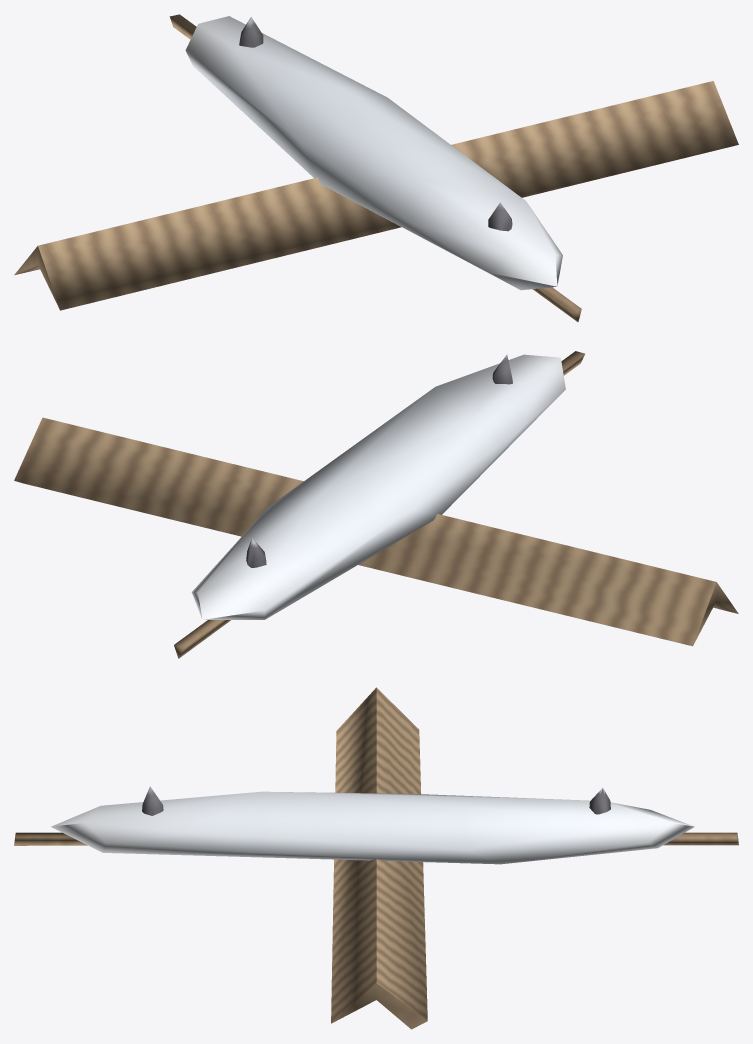
The model's file is cottage_roof_ridge_lod1.gltf.
The picture shows the model from 3 angles, top to bottom: view 1: azimuth 30°, elevation 25°; view 2: azimuth 150°, elevation 25°; view 3: azimuth 270°, elevation 25°; orthographic projection. The views are drawn at different scales.
Parts seen in each view (by area): view 1: cottage_roof_ridge_LOD1; view 2: cottage_roof_ridge_LOD1; view 3: cottage_roof_ridge_LOD1.
Part boxes in pixels (bbox=[...]): cottage_roof_ridge_LOD1: bbox=[14, 14, 738, 321]; cottage_roof_ridge_LOD1: bbox=[14, 351, 738, 658]; cottage_roof_ridge_LOD1: bbox=[14, 687, 738, 1029].
Size of the model in its own units: 3 by 0.449 by 3.11.
Materials: 1 (1 with a texture image).
